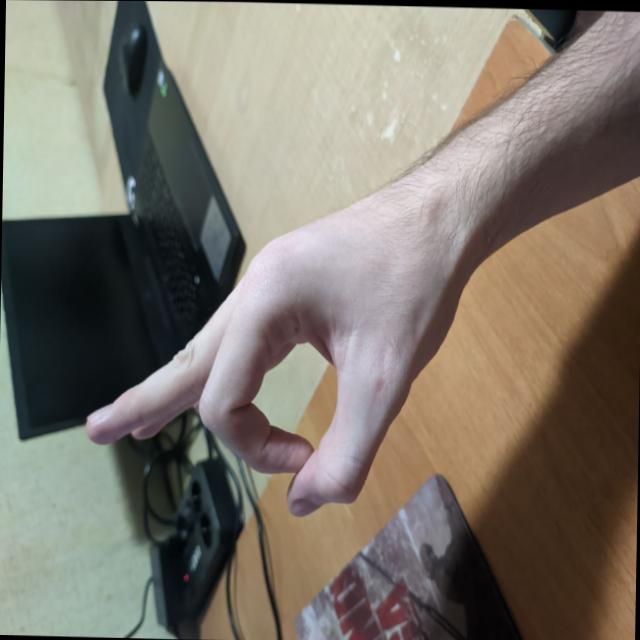o: (54, 214, 440, 565)
